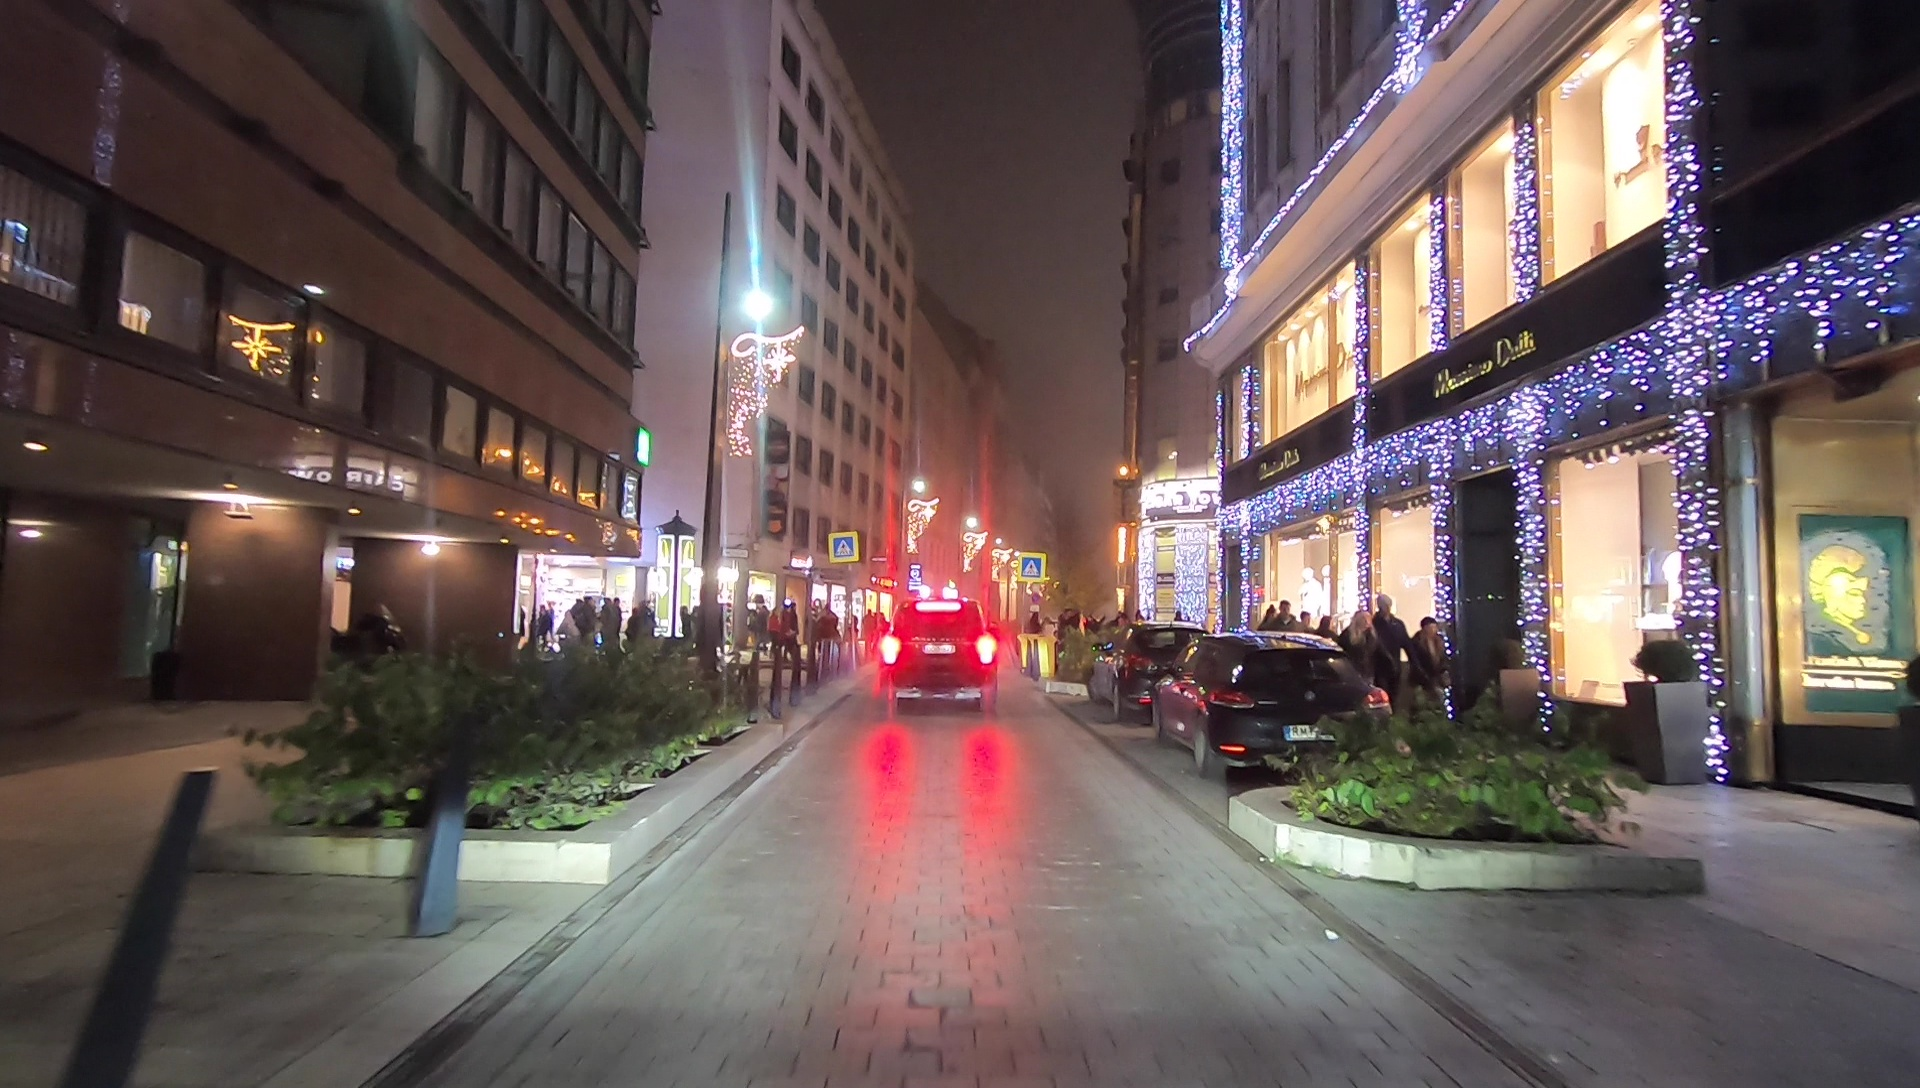person: (1371, 594, 1412, 730), (1340, 608, 1386, 725), (1410, 613, 1448, 728)
